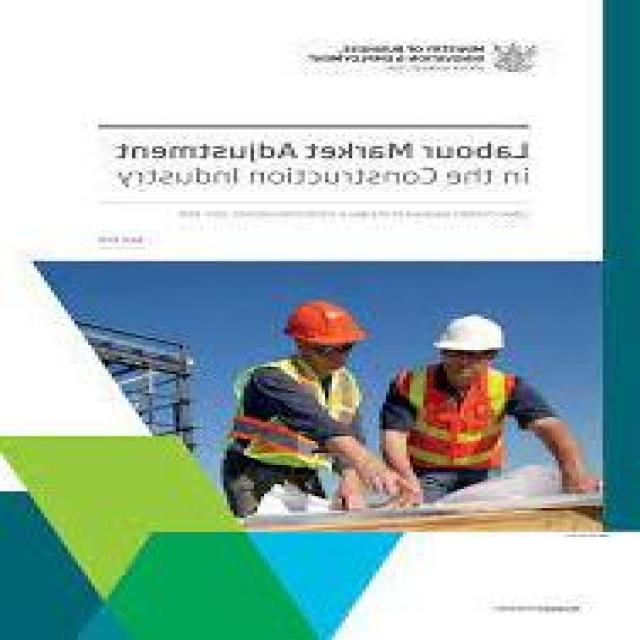Reflective-Jacket: (210, 350, 362, 482), (383, 364, 528, 480)
Safety-Helmet: (271, 292, 379, 355), (427, 309, 511, 362)
